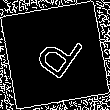P_SW: (25, 24, 85, 86)
